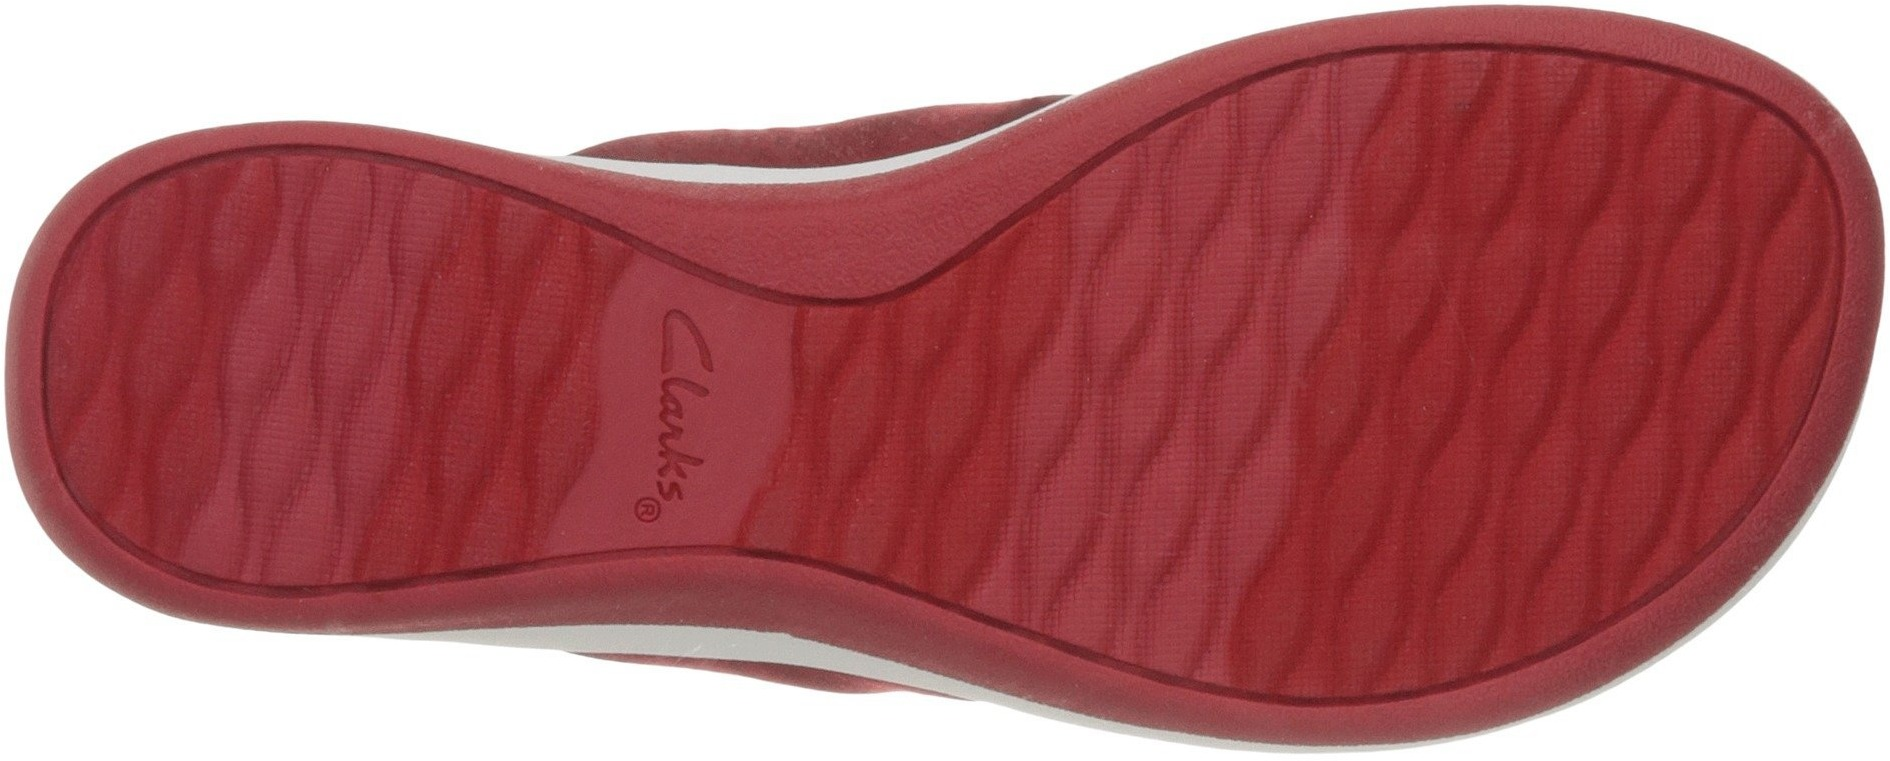text: (609, 336, 751, 478)
